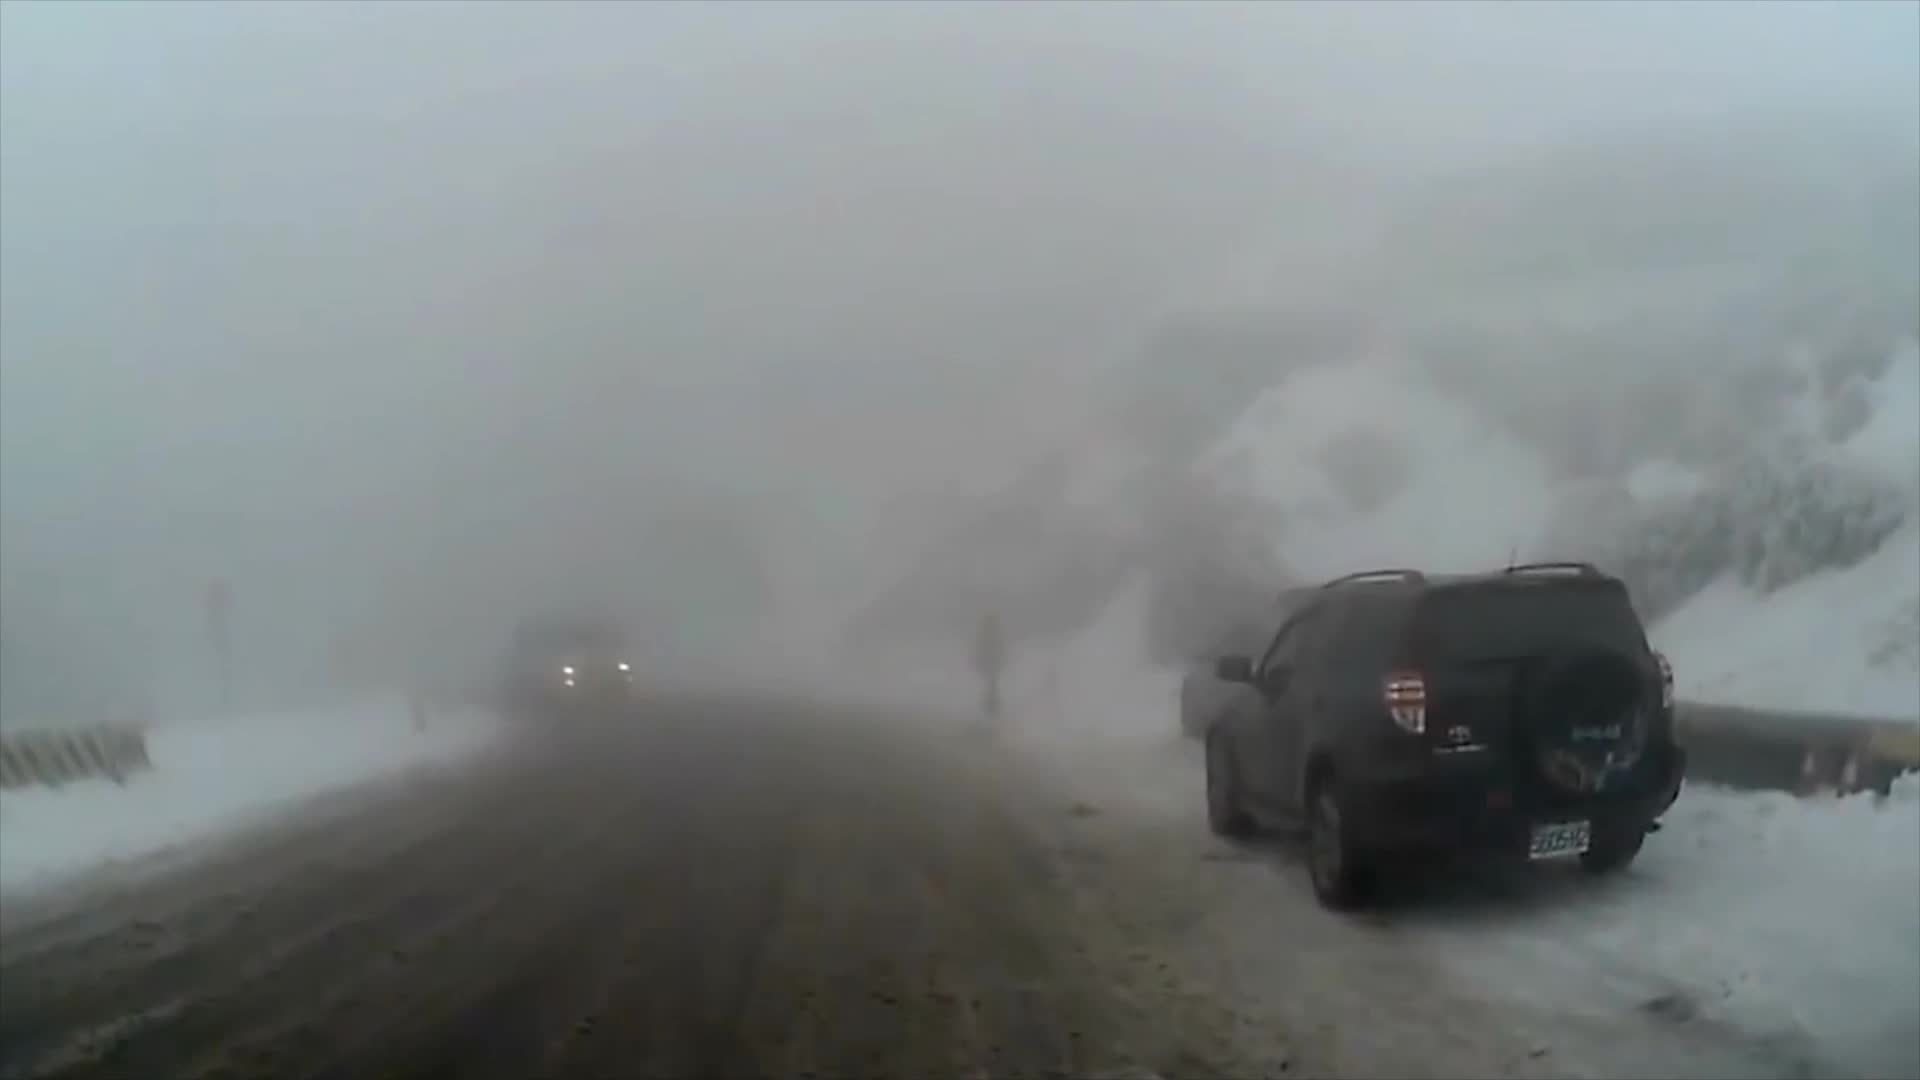vehicle: (1200, 542, 1689, 913), (505, 618, 642, 716)
